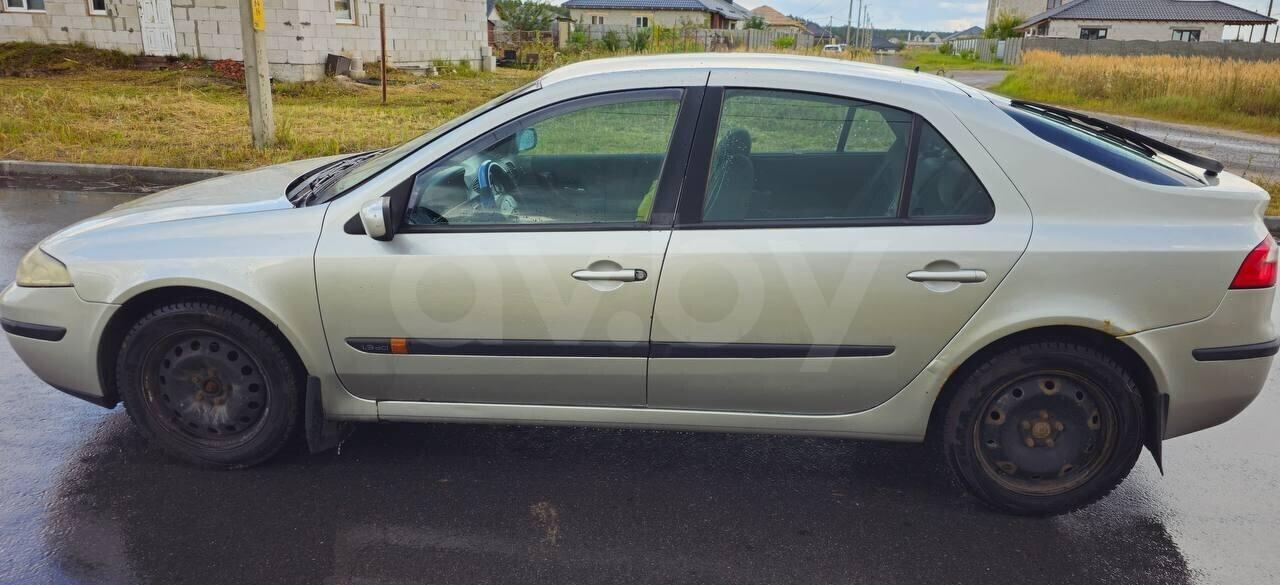Laguna_2001-2005: (0, 54, 1279, 516)
